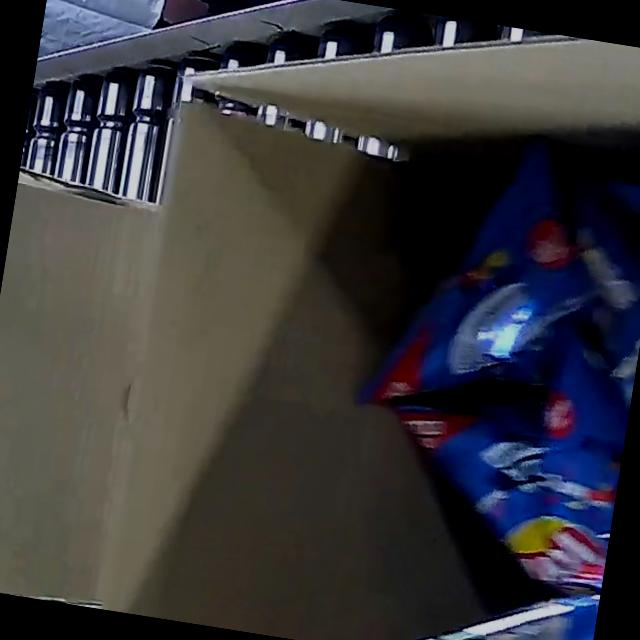paprika: (319, 89, 640, 640)
